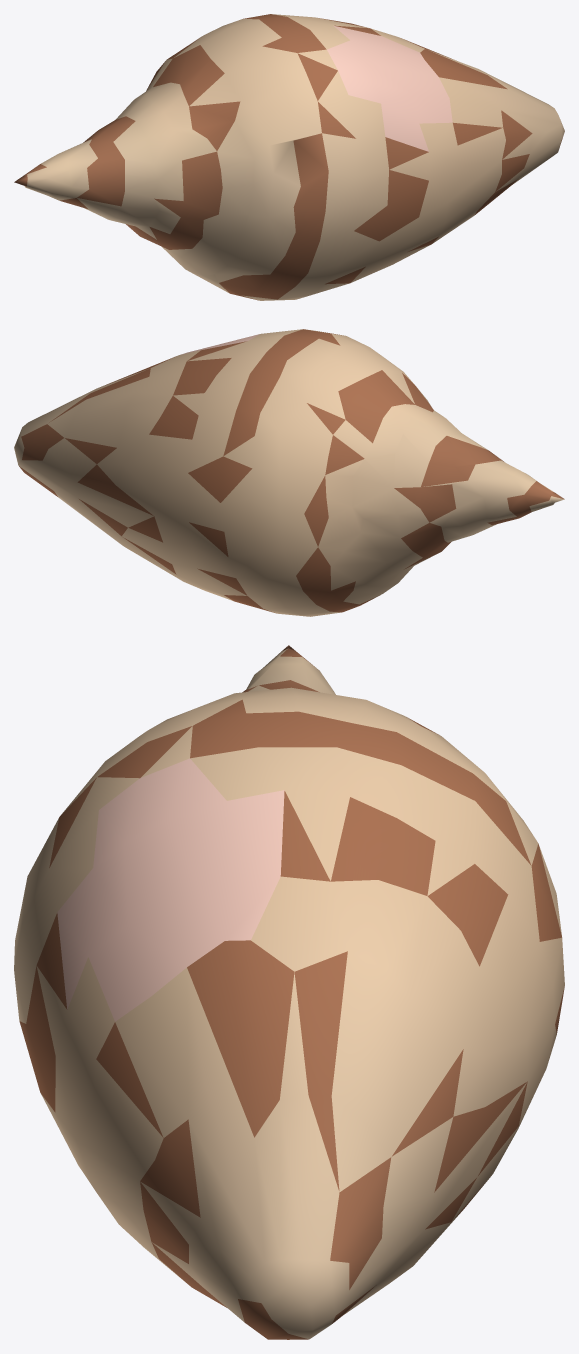
File: shore_whelk_lod2.glb
3 views of the same model, one above another, from view 1: azimuth 30°, elevation 25°; view 2: azimuth 150°, elevation 25°; view 3: azimuth 270°, elevation 25° (orthographic). The views are drawn at different scales.
Visible parts, largest first — view 1: shore_whelk.001; view 2: shore_whelk.001; view 3: shore_whelk.001.
Part boxes in pixels (x1=…): shore_whelk.001: x1=14, y1=14, x2=564, y2=300; shore_whelk.001: x1=14, y1=329, x2=564, y2=616; shore_whelk.001: x1=14, y1=645, x2=564, y2=1339.
Size of the model in its own units: 14.06 by 6.01 by 6.39.
